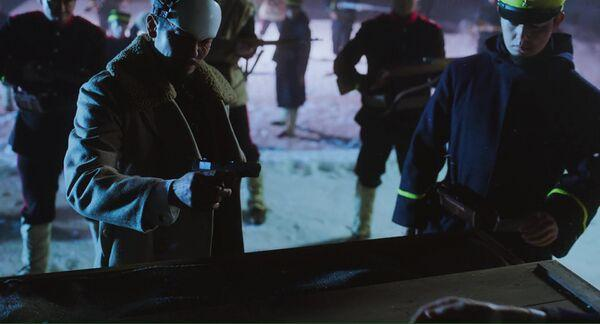Gun: (192, 156, 260, 181)
